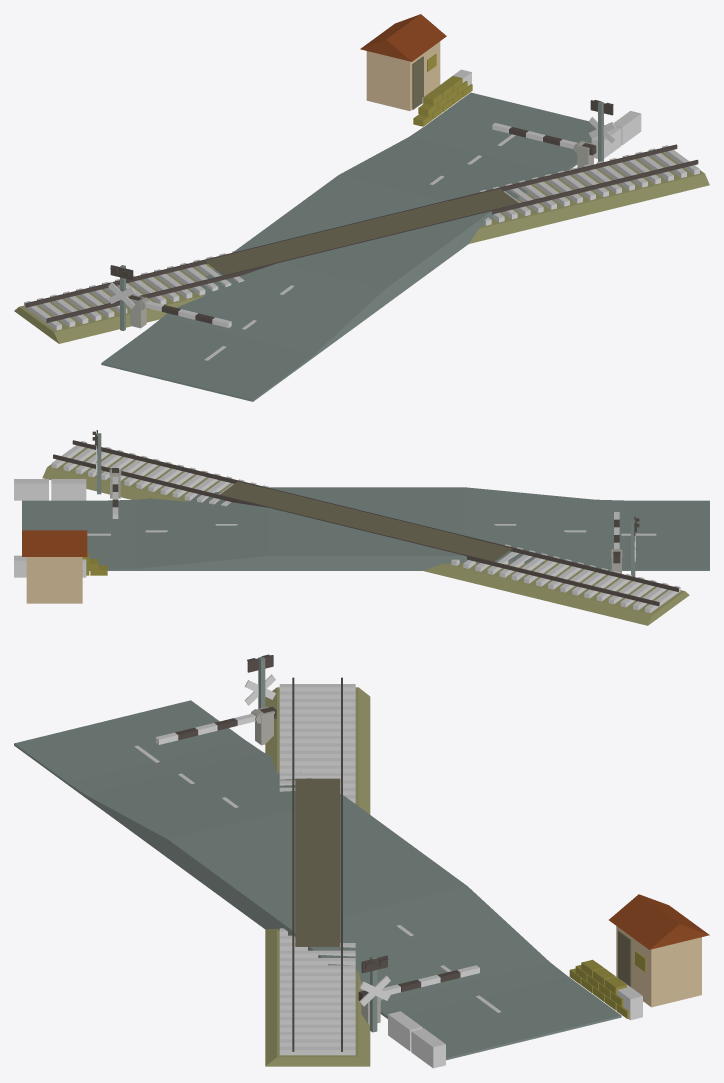
The model's file is SM_PasoNivel_30E_v3_Militar_LOD0.fbx.
3 renders of one model, top to bottom at view 1: azimuth 30°, elevation 25°; view 2: azimuth 150°, elevation 25°; view 3: azimuth 270°, elevation 25°, orthographic. The views are drawn at different scales.
Visible parts, largest first — view 1: SM_paso_nivel_kit_v38_LOD0, Barrera_1, Barrera_2; view 2: SM_paso_nivel_kit_v38_LOD0, Barrera_1, Barrera_2; view 3: SM_paso_nivel_kit_v38_LOD0, Barrera_2, Barrera_1.
Boxes of the visible parts, x1,y1,x2,y2 form: SM_paso_nivel_kit_v38_LOD0: (14, 14, 709, 401); Barrera_1: (492, 122, 596, 155); Barrera_2: (128, 295, 231, 327); SM_paso_nivel_kit_v38_LOD0: (14, 430, 709, 625); Barrera_1: (110, 468, 119, 518); Barrera_2: (612, 512, 621, 563); SM_paso_nivel_kit_v38_LOD0: (14, 654, 709, 1068); Barrera_2: (155, 706, 276, 744); Barrera_1: (358, 965, 479, 1000).
Size of the model in its own units: 30.16 by 3 by 23.85.
